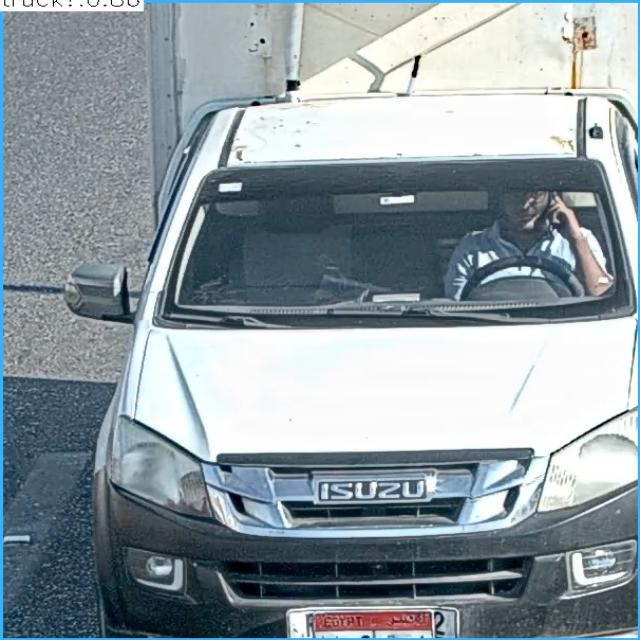windshield: (155, 155, 620, 316)
